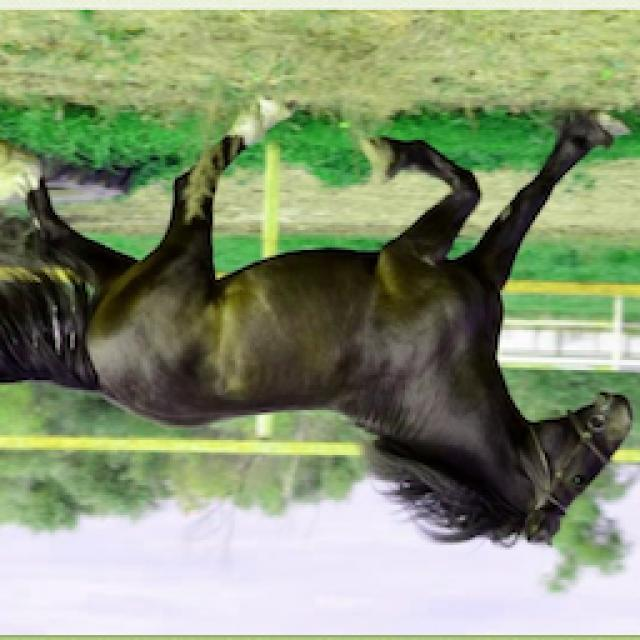Horse: (0, 92, 638, 556)
